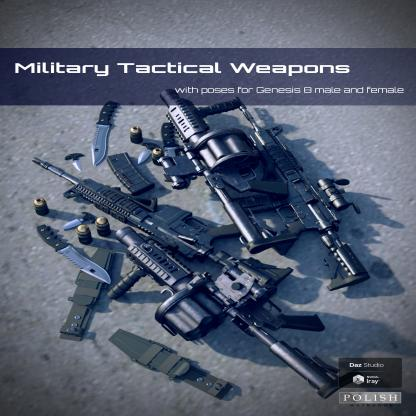Grenade: (32, 196, 51, 216), (77, 223, 93, 246), (96, 216, 112, 236), (152, 147, 166, 166), (130, 126, 143, 144)
Gun: (107, 226, 359, 400), (237, 103, 370, 293), (159, 86, 300, 255)
Knife: (107, 327, 235, 401), (58, 247, 117, 342), (35, 223, 112, 286), (92, 100, 119, 167), (161, 120, 182, 158), (138, 142, 158, 164)
